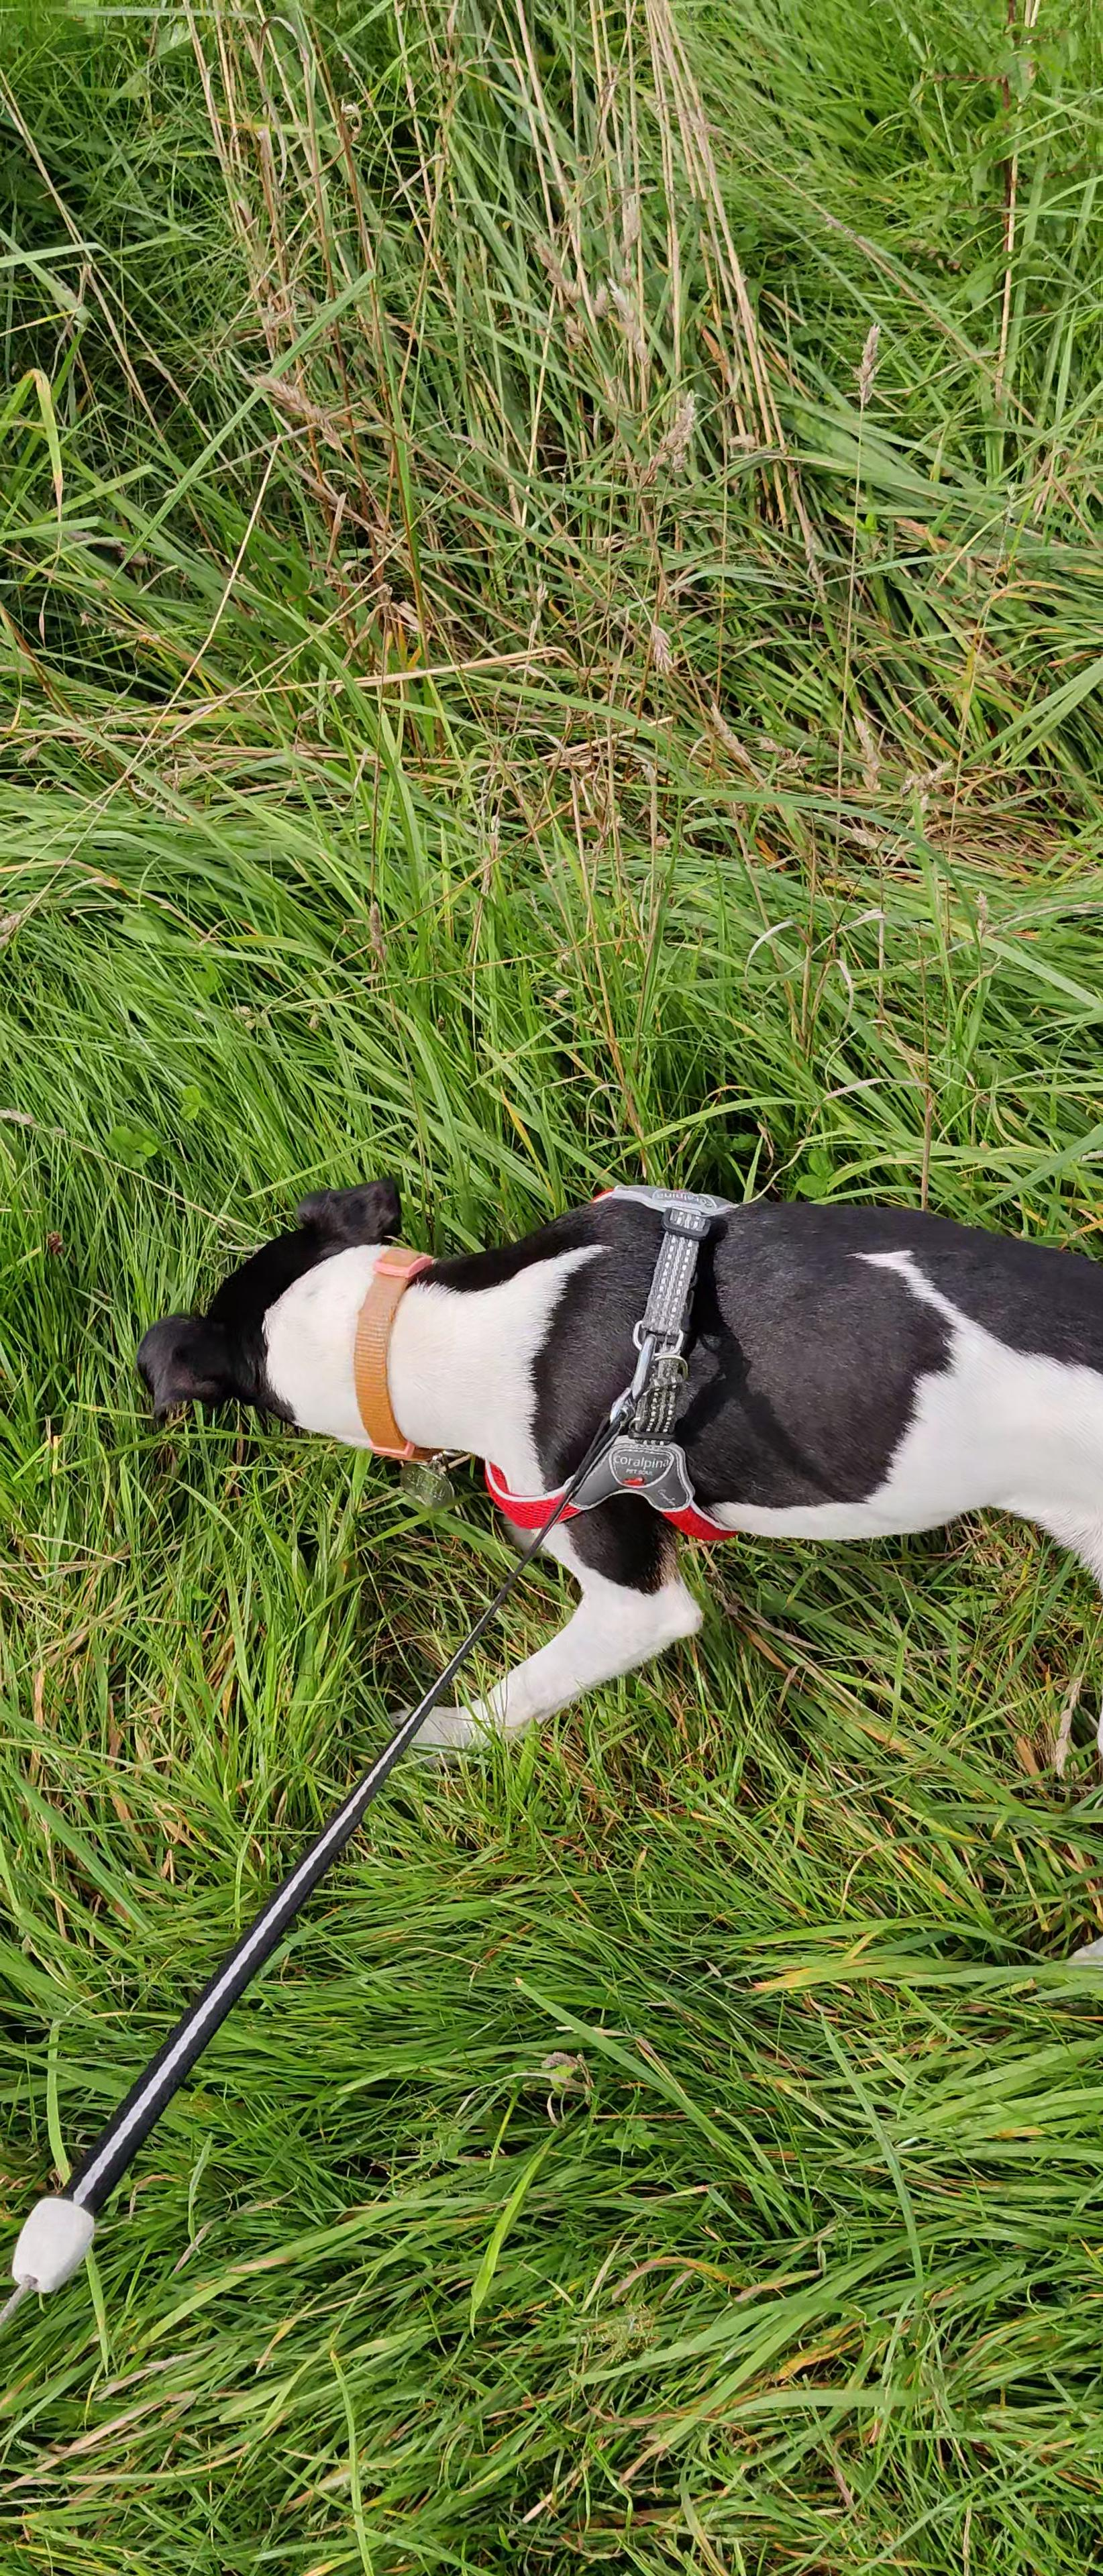Dog: (132, 1173, 1103, 1745)
